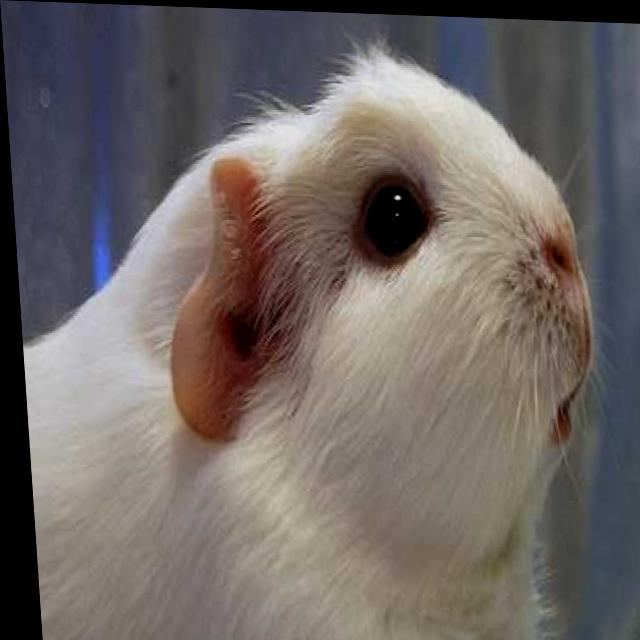guinea pig: (2, 32, 602, 640)
